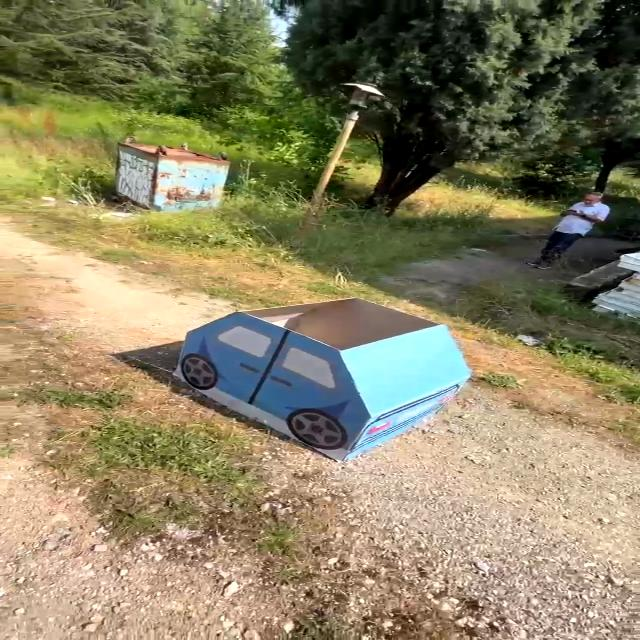blue_car: (150, 277, 494, 475)
